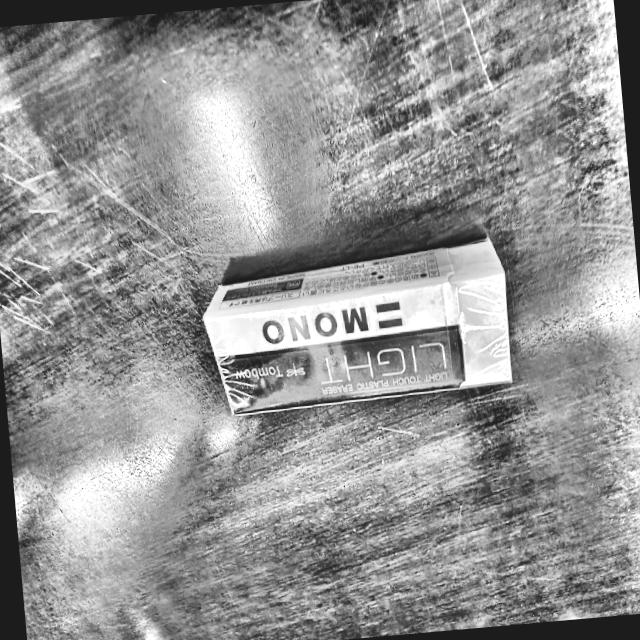eraser: (184, 223, 539, 432)
